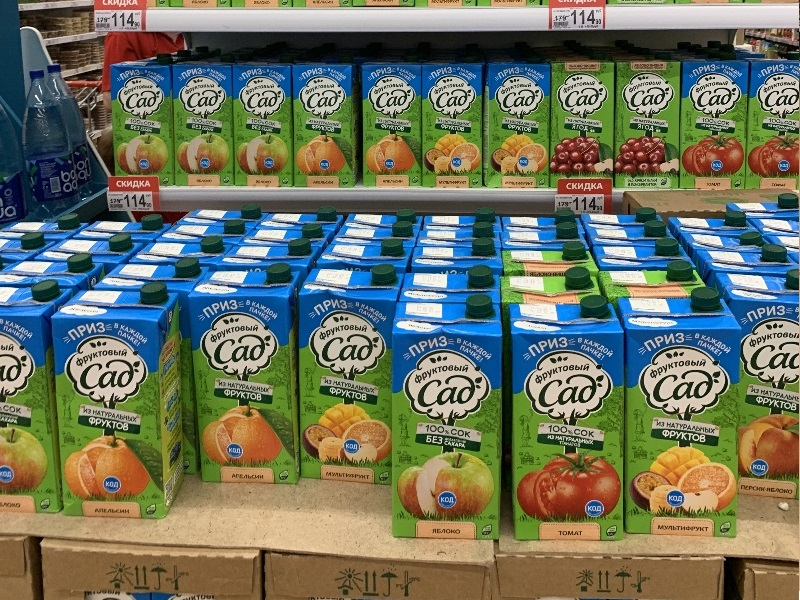juice: (615, 290, 754, 550), (54, 279, 194, 525), (497, 293, 632, 548), (186, 261, 315, 490), (389, 293, 507, 540), (295, 261, 403, 489), (614, 47, 693, 196), (677, 45, 750, 197), (480, 55, 557, 193), (544, 48, 623, 180), (417, 53, 490, 193), (232, 51, 302, 194), (109, 50, 181, 189), (357, 54, 428, 193), (292, 53, 361, 196), (170, 55, 240, 190)
